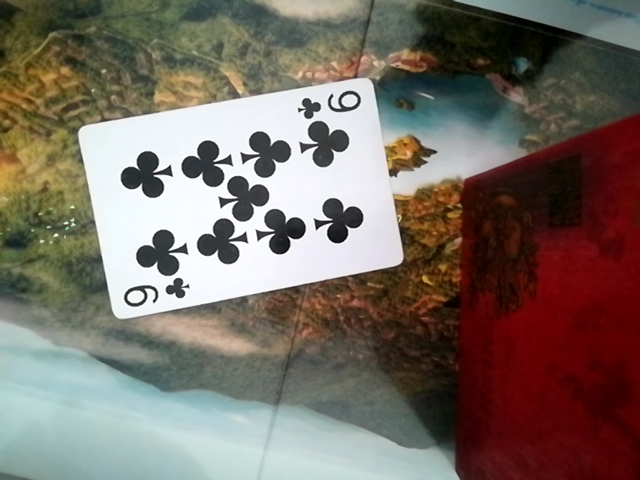mh 9: (80, 78, 404, 317)
